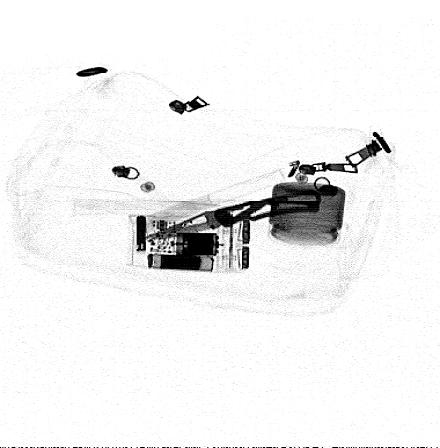Knife: (141, 189, 322, 239)
